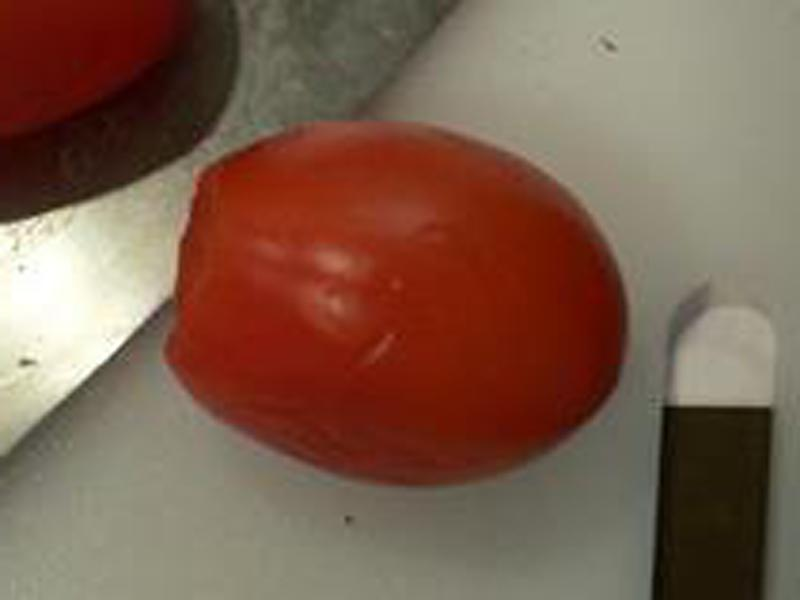Tomato: (166, 118, 628, 486)
